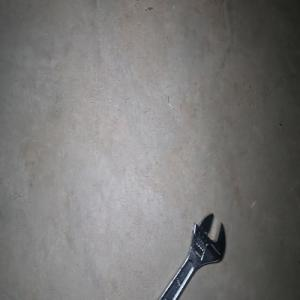Wrench: (157, 212, 225, 300)
